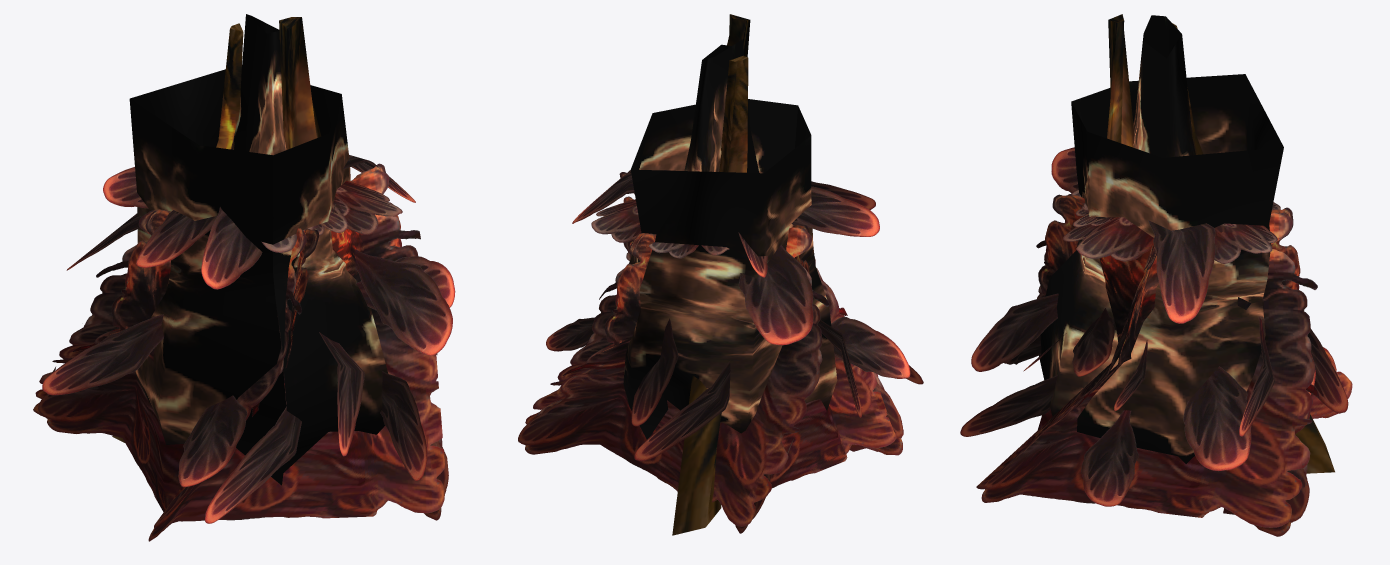
File: borean_redplant_burningpile_01.obj
3 renders of one model, left to right at view 1: azimuth 30°, elevation 25°; view 2: azimuth 150°, elevation 25°; view 3: azimuth 270°, elevation 25°, orthographic. The views are drawn at different scales.
Visible parts, largest first — view 1: Geoset0, Geoset2, Geoset1; view 2: Geoset0, Geoset2, Geoset1; view 3: Geoset0, Geoset2, Geoset1.
Boxes of the visible parts, x1=… form: Geoset0: x1=33, y1=17, x2=455, y2=541; Geoset2: x1=129, y1=67, x2=388, y2=485; Geoset1: x1=231, y1=14, x2=286, y2=155; Geoset0: x1=518, y1=14, x2=923, y2=535; Geoset2: x1=623, y1=99, x2=837, y2=439; Geoset1: x1=684, y1=39, x2=759, y2=172; Geoset0: x1=960, y1=14, x2=1352, y2=536; Geoset2: x1=1039, y1=74, x2=1283, y2=463; Geoset1: x1=1133, y1=15, x2=1195, y2=157.
Size of the model in its own units: 2.19 by 2.74 by 2.21.
Materials: 2 (2 with a texture image).
